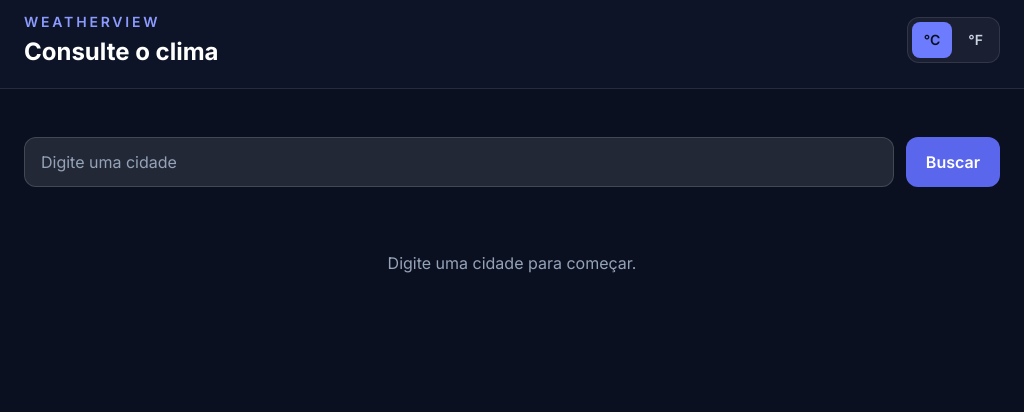
Test: interface do weather app › mostra erro e permite tentar a busca novamente
The image size is (1024, 412).
Type "São Paulo" into the search field named "Nome da cidade" at [459, 162], box [24,137,894,187]
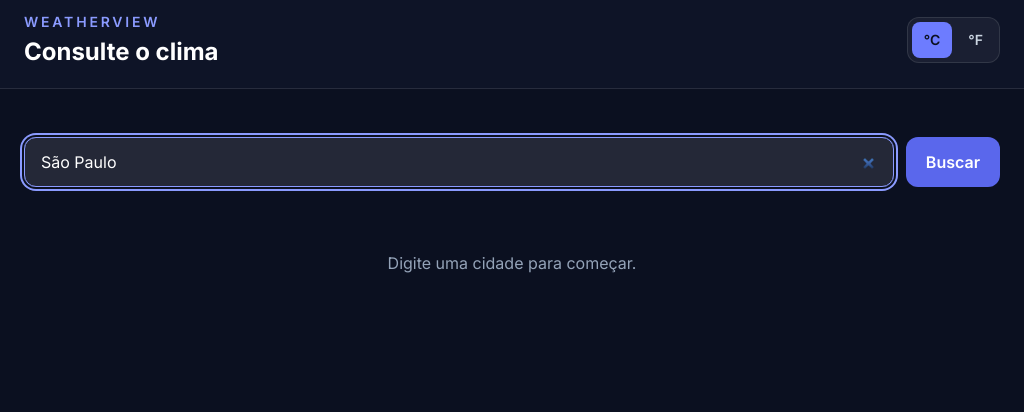
Click the button "Buscar" at [953, 162], box [906,137,1000,187]
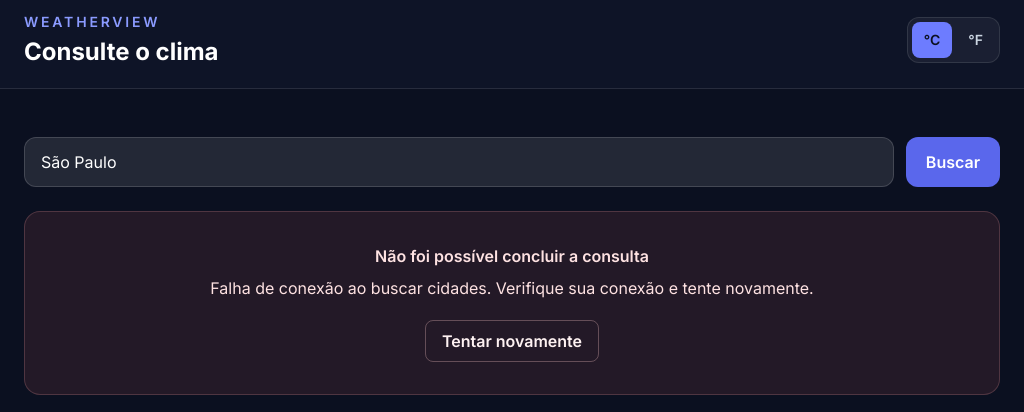
Now the message is shown, box [24,211,1000,395]
Click the button "Tentar novamente" at [512, 341], box [425,320,599,362]
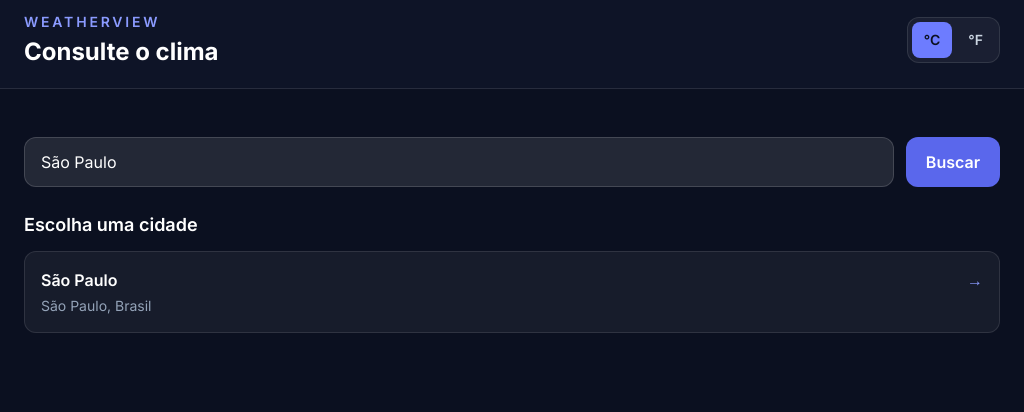
Now the button "São Paulo São Paulo, Brasil →" is shown, box [24,251,1000,333]
